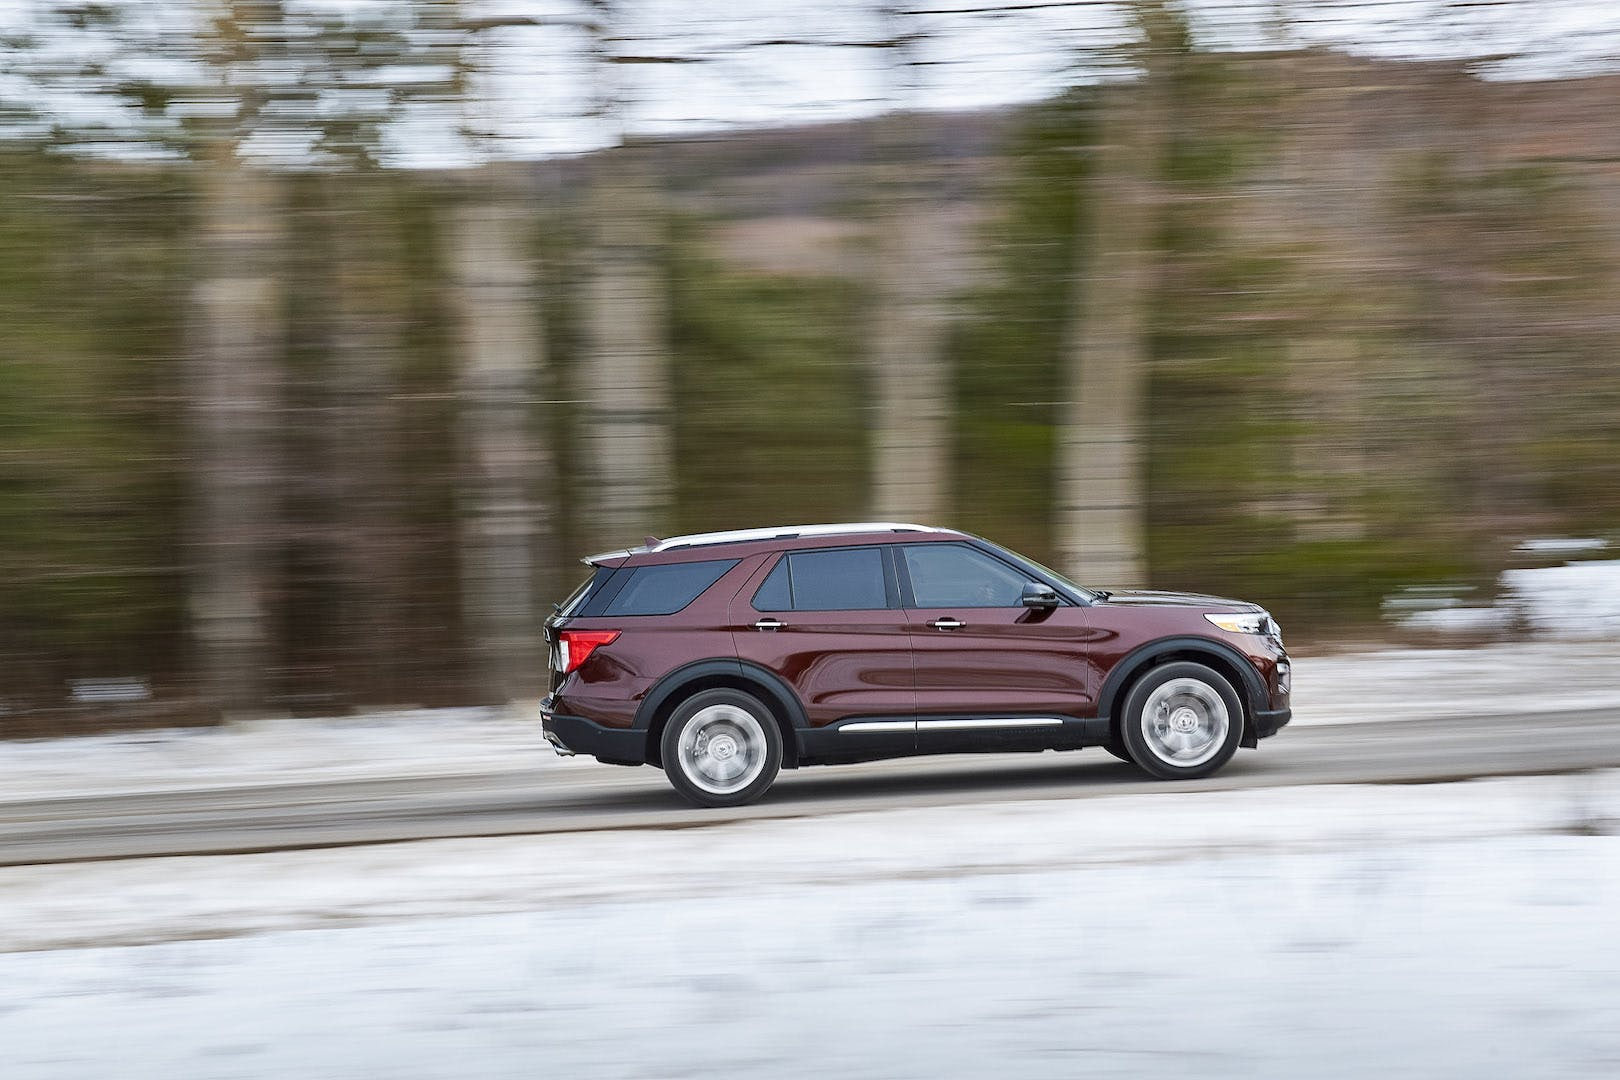Ford Explorer: (539, 507, 1299, 817)
